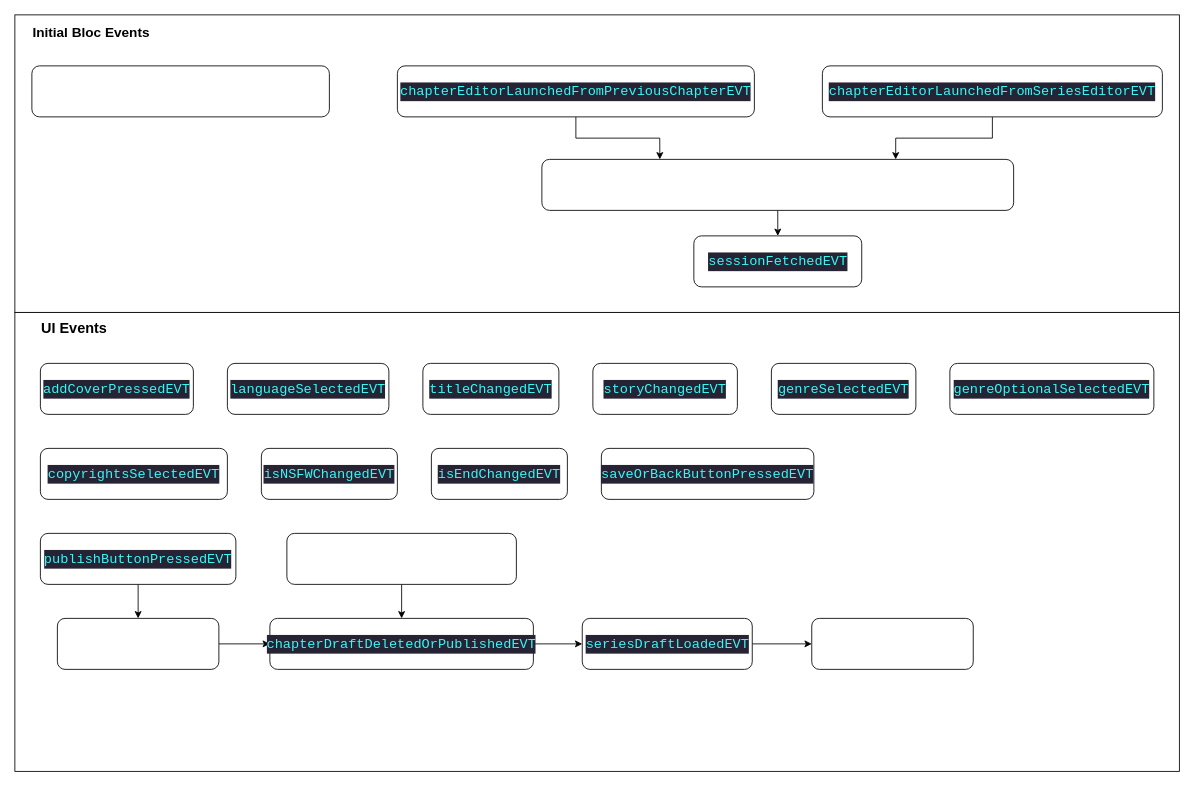
Some shapes in this 1194 by 786 pixel diagram are drawn without their labels. Here are the shapes that lost their labels. From the top down, the centre of each, then its label:
pixel 180 91: chapterEditorLaunchedFromAccountEVT
pixel 777 184: chapterDraftInitializedWithPreviousChapterOrSeriesDraftEVT
pixel 401 558: deleteDraftButtonPressedEVT
pixel 138 643: chapterPublishedEVT
pixel 892 643: seriesPublishedEVT
